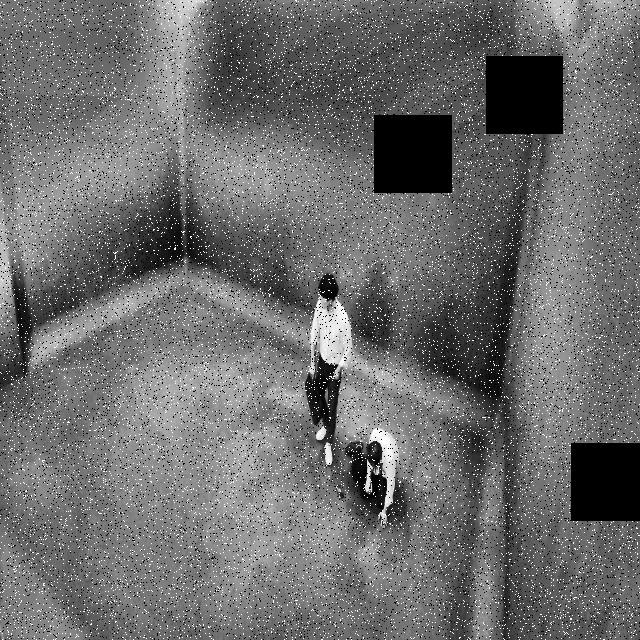assult: (303, 268, 402, 534), (347, 424, 399, 530)
